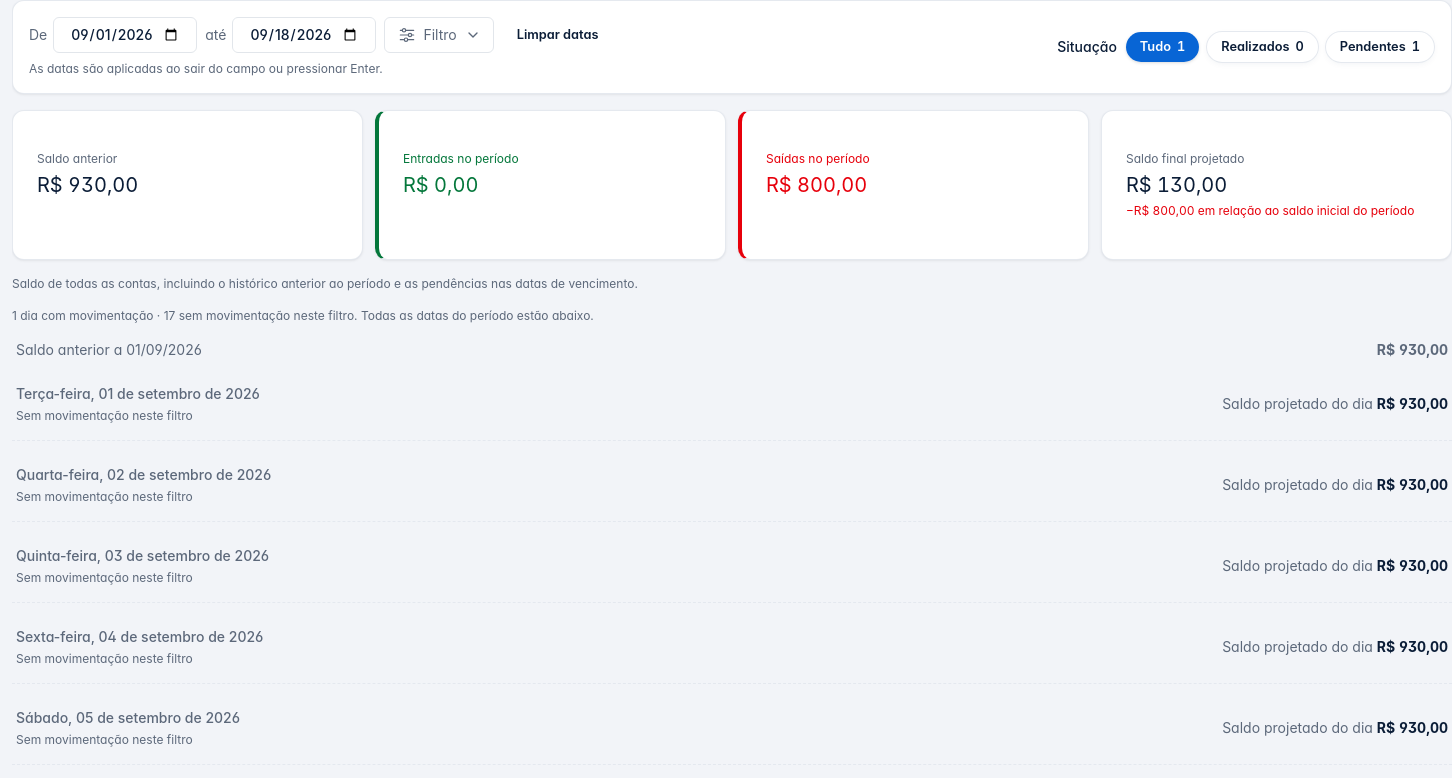
o mês incompleto não muda o período aplicado nem abre o histórico
Clear the date field labelled "De". click: (125, 35)
box: [53,17,197,53]
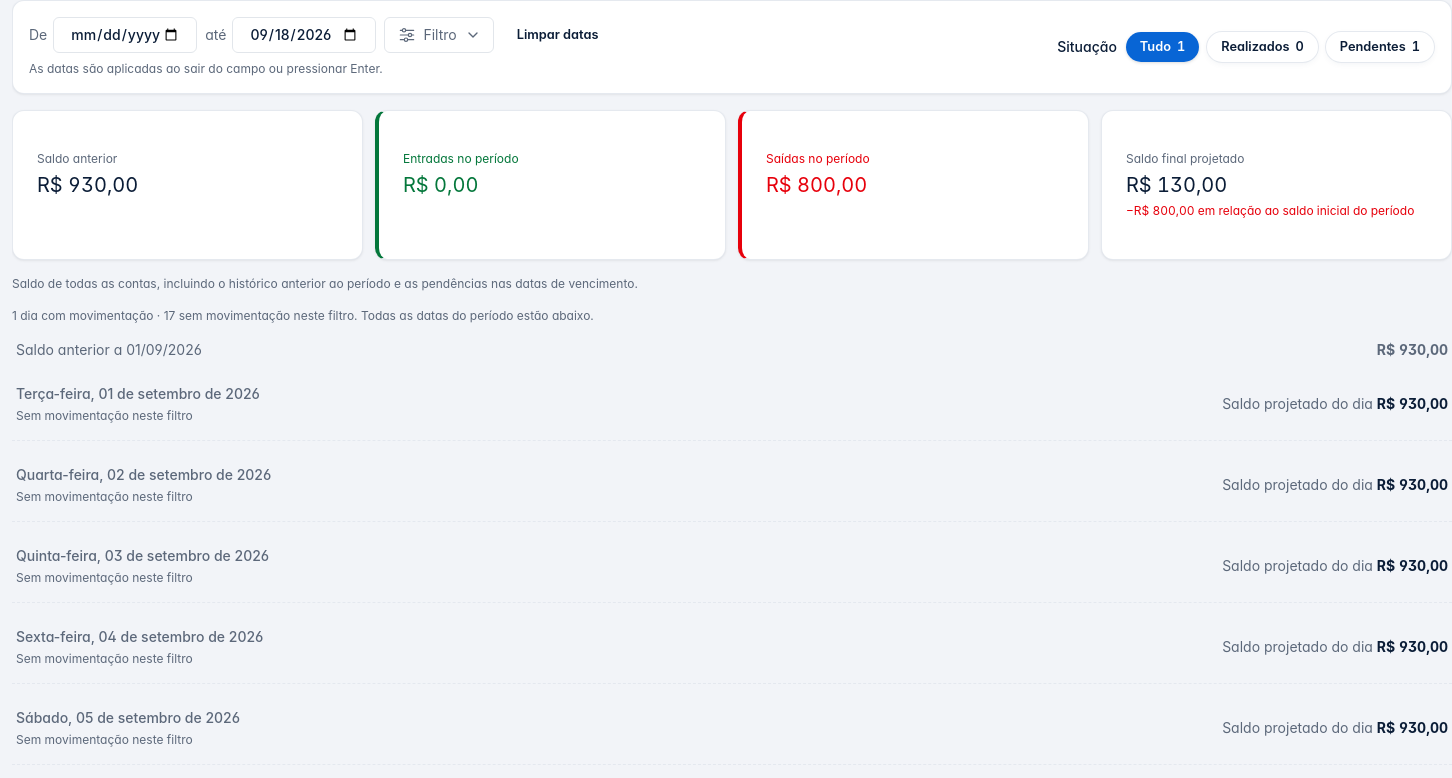
Leave the date field labelled "De", box [53,17,197,53]
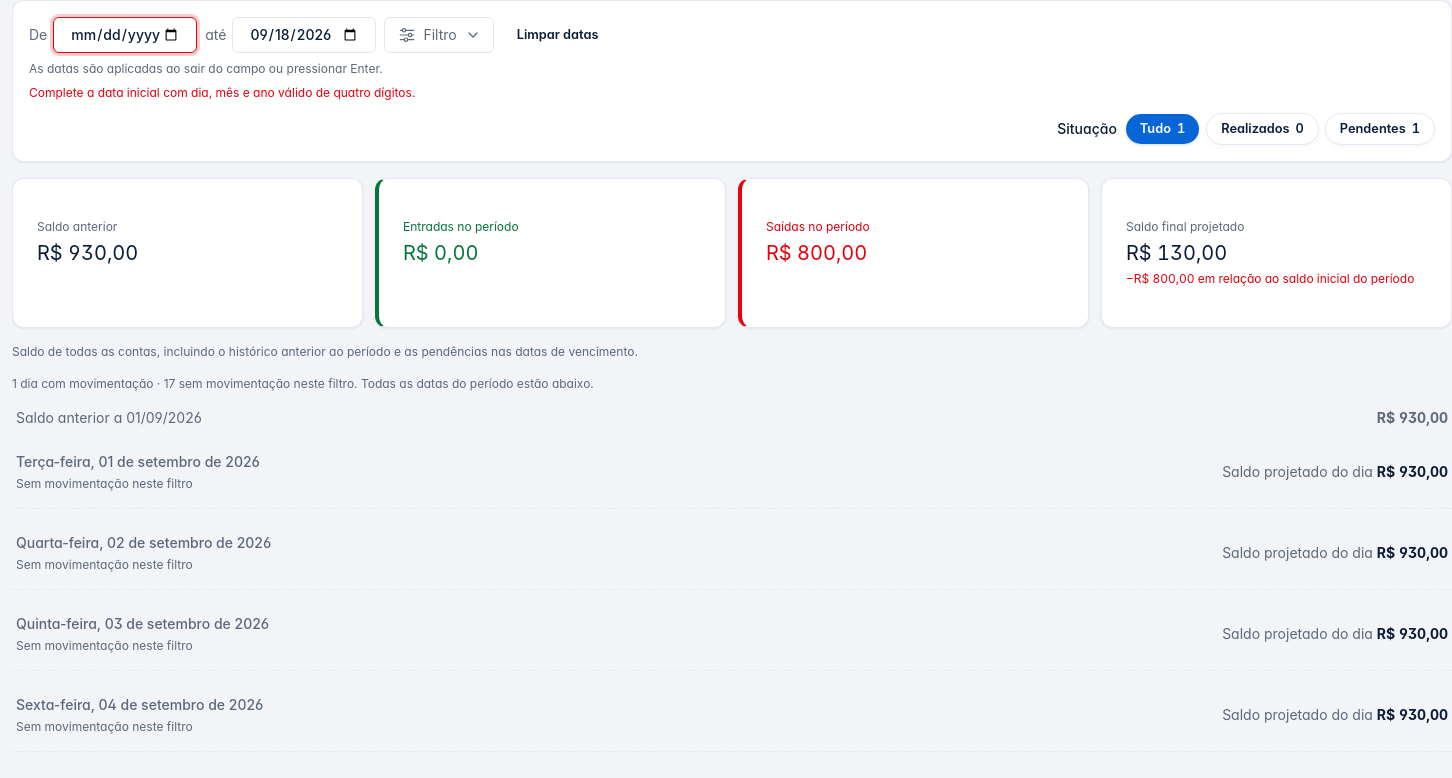
Check: the message "Complete a data inicial com dia, mês e ano válido de quatro dígitos." is shown, box [29,85,415,100]
